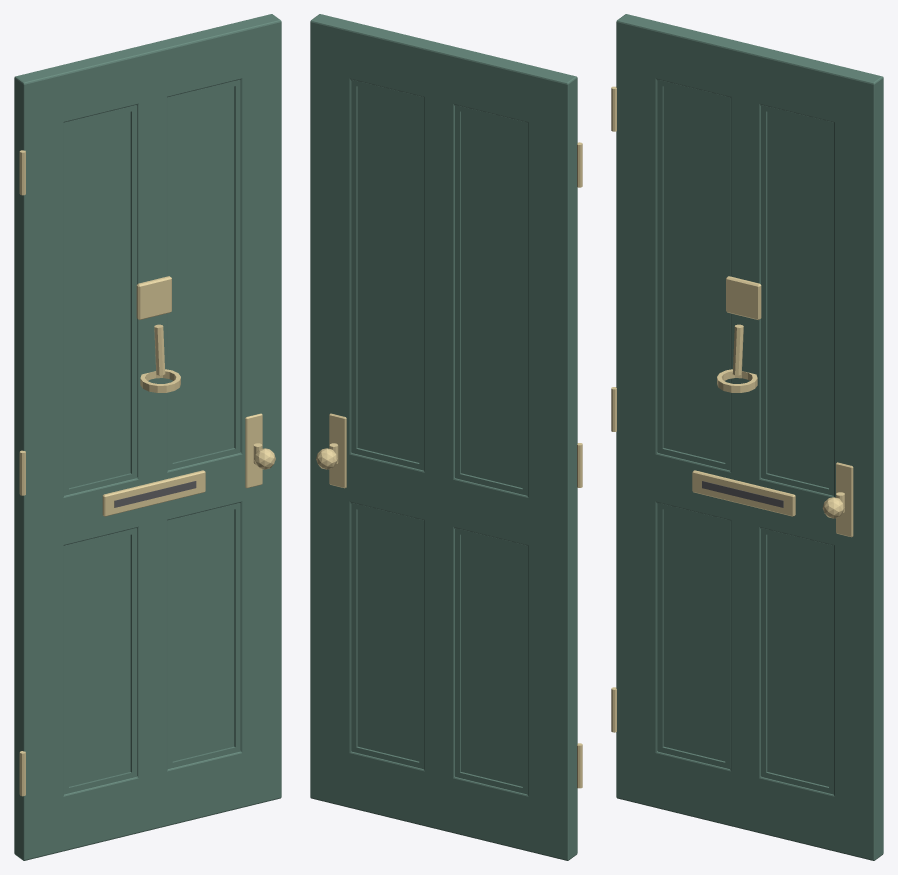
Rendered from door_front.glb.
3 renders of one model, left to right at view 1: azimuth 30°, elevation 25°; view 2: azimuth 150°, elevation 25°; view 3: azimuth 330°, elevation 25°, orthographic.
Visible parts, largest first — view 1: door_front_door_g, door_front_brass, door_front_dark; view 2: door_front_door_g, door_front_brass; view 3: door_front_door_g, door_front_brass, door_front_dark.
Part boxes in pixels (bbox=[...]): door_front_door_g: bbox=[14, 14, 281, 860]; door_front_brass: bbox=[19, 150, 275, 796]; door_front_dark: bbox=[114, 481, 196, 507]; door_front_door_g: bbox=[310, 14, 577, 860]; door_front_brass: bbox=[316, 142, 582, 788]; door_front_door_g: bbox=[616, 14, 883, 860]; door_front_brass: bbox=[611, 86, 853, 732]; door_front_dark: bbox=[702, 481, 783, 507].
Size of the model in its own units: 0.772 by 2.19 by 0.2287.
